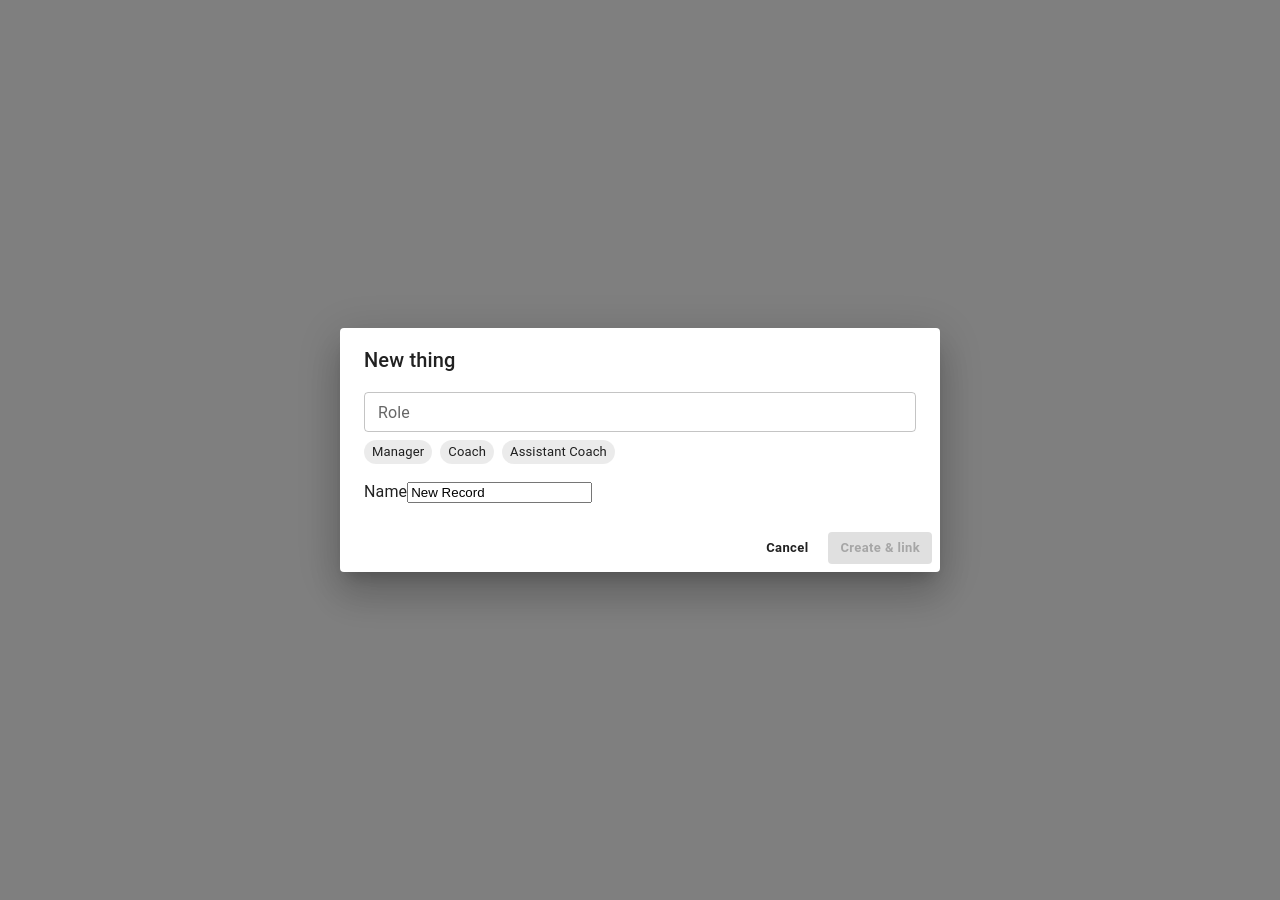
Test case: CreateAndLinkRecordDialog › with an extraField › disables the confirm button until the extra field is non-blank
Check: the button "Create & link" is disabled, box x1=828 y1=532 x2=932 y2=564
Type "Coach" into the field labelled "Role" at (640,412), box x1=364 y1=392 x2=916 y2=432
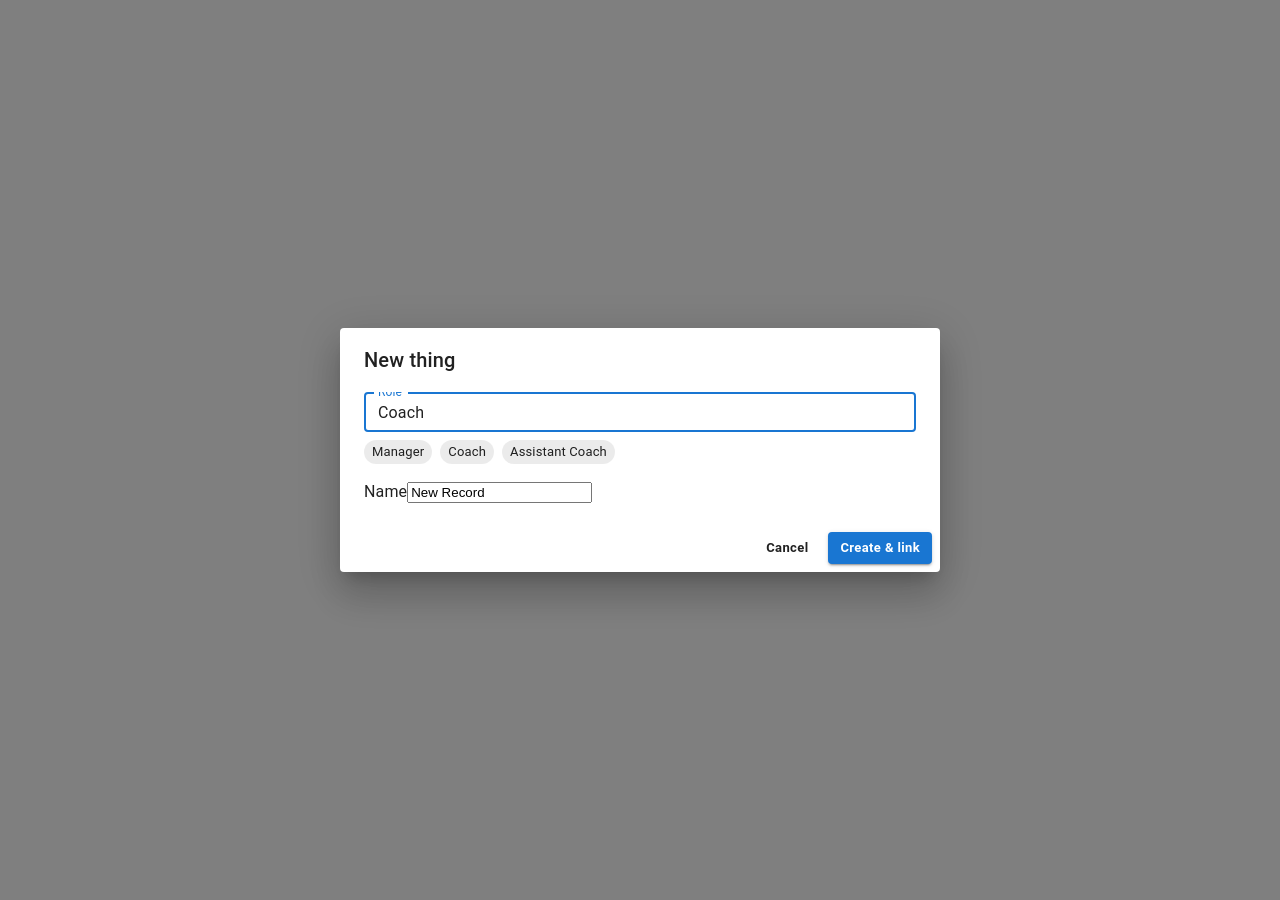
Check: the button "Create & link" is enabled, box x1=828 y1=532 x2=932 y2=564
